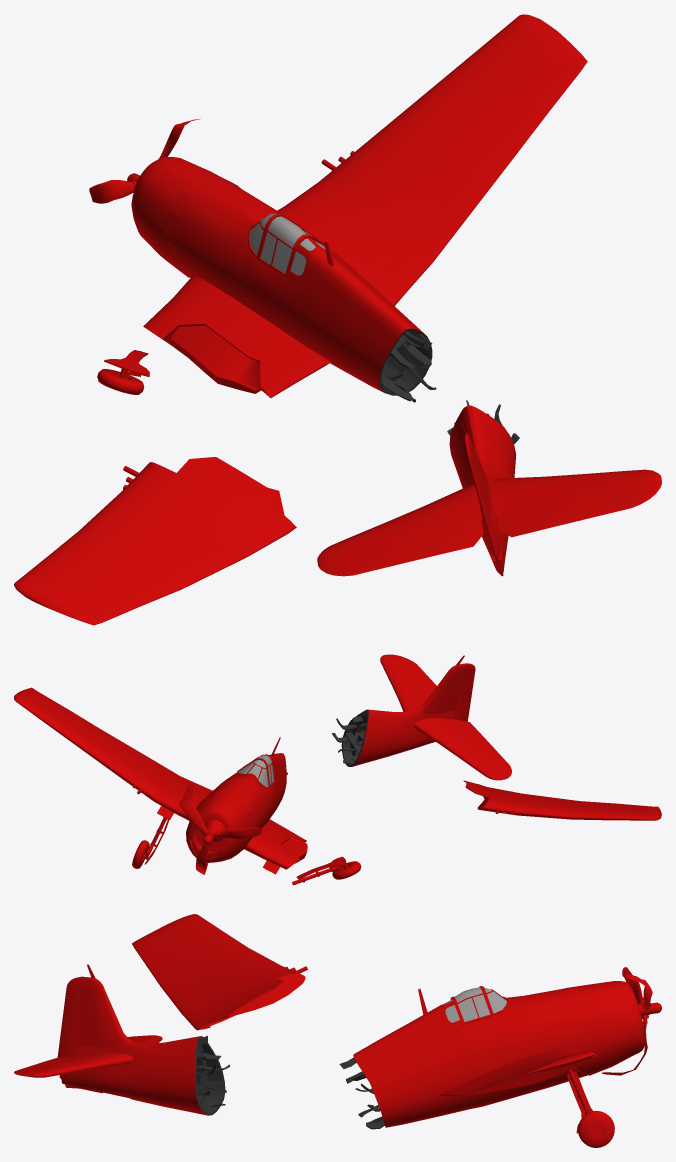
File: hellcat_crash.fbx
3 renders of one model, top to bottom at view 1: azimuth 30°, elevation 25°; view 2: azimuth 150°, elevation 25°; view 3: azimuth 270°, elevation 25°, orthographic. The views are drawn at different scales.
Parts seen in each view (by area): view 1: base.016, base.035, base.034, Object002, Object001, base.037, base.036, Inner parts_2, base.017, Object003, base.038, base.018; view 2: base.016, base.035, Object002, base.034, Object001, base.038, Inner_parts_1, base.036, Object003, base.018, base.037, base.017; view 3: base.016, base.034, Object001, Object002, base.035, Inner_parts_1, base.018, base.017, base.038, Inner parts_2, base.037.
Boxes of the visible parts, box(x1,y1,x2,y2) form: base.016: box(131, 157, 424, 397); base.035: box(319, 14, 587, 271); base.034: box(14, 457, 296, 625); Object002: box(317, 424, 661, 576); Object001: box(449, 405, 516, 568); base.037: box(496, 479, 661, 537); base.036: box(318, 520, 483, 576); Inner parts_2: box(379, 328, 436, 402); base.017: box(249, 213, 325, 275); Object003: box(97, 350, 149, 394); base.038: box(89, 118, 201, 203); base.018: box(463, 436, 501, 561); base.016: box(132, 737, 307, 874); base.035: box(14, 687, 195, 801); Object002: box(380, 654, 504, 780); base.034: box(463, 780, 661, 820); Object001: box(341, 709, 454, 766); base.038: box(179, 784, 261, 874); Inner_parts_1: box(332, 709, 368, 766); base.036: box(447, 718, 511, 779); Object003: box(292, 856, 361, 885); base.018: box(453, 663, 475, 721); base.037: box(390, 654, 436, 697); base.017: box(238, 755, 274, 786); base.016: box(353, 981, 645, 1147); base.034: box(132, 914, 307, 1030); Object001: box(59, 1036, 225, 1115); Object002: box(25, 964, 162, 1092); base.035: box(458, 1052, 596, 1096); Inner_parts_1: box(195, 1035, 229, 1115); base.018: box(57, 976, 91, 1057); base.017: box(443, 987, 506, 1022); base.038: box(602, 967, 661, 1075); Inner parts_2: box(339, 1057, 386, 1129); base.037: box(14, 1055, 85, 1076).
Size of the model in its own units: 14.75 by 3.99 by 13.66.
